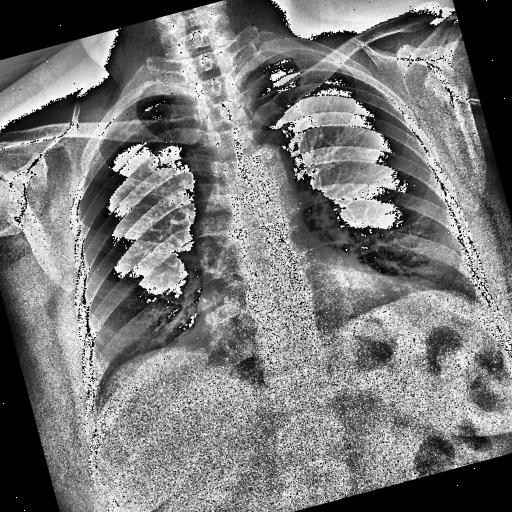0- Aortic enlargement: (239, 137, 310, 230)
11- Pleural thickening: (254, 37, 340, 85), (258, 40, 320, 70), (132, 88, 180, 111)
3- Cardiomegaly: (184, 255, 440, 376), (180, 243, 426, 354), (179, 259, 426, 361)
